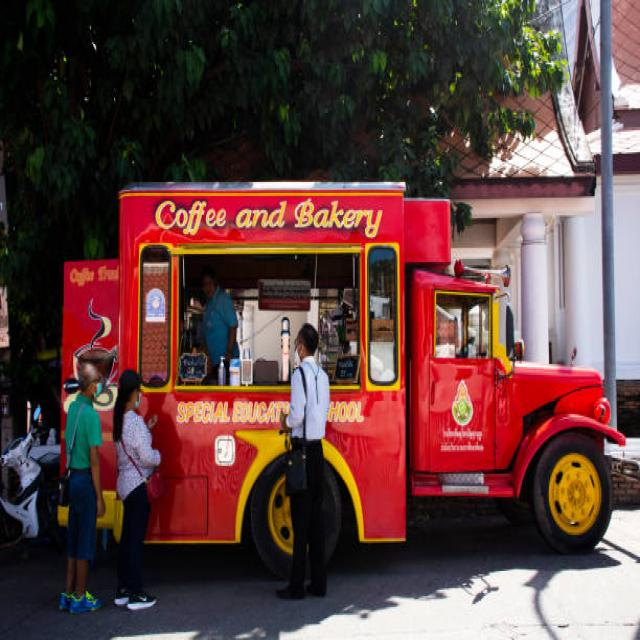Emperan: (60, 174, 633, 571)
